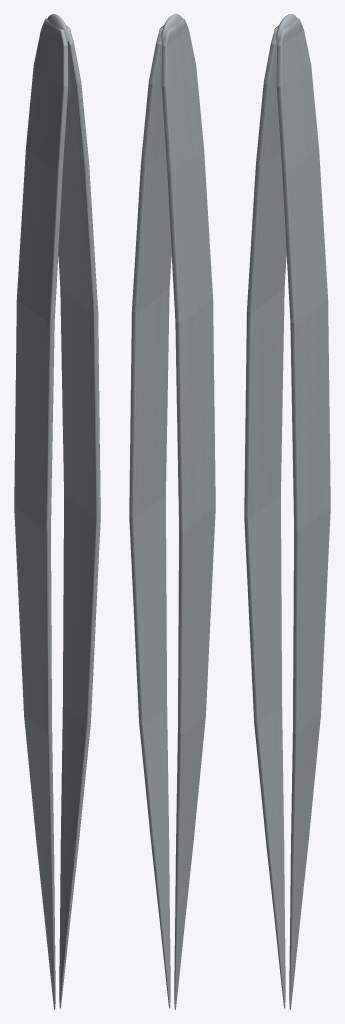
The model's file is pinzette.glb.
The picture shows the model from 3 angles, left to right: view 1: azimuth 30°, elevation 25°; view 2: azimuth 150°, elevation 25°; view 3: azimuth 330°, elevation 25°; orthographic projection.
Parts seen in each view (by area): view 1: Braccio_Sinistro, Braccio_Destro, Giunzione; view 2: Braccio_Sinistro, Braccio_Destro, Giunzione; view 3: Braccio_Destro, Braccio_Sinistro, Giunzione.
Part boxes in pixels (bbox=[...]): Braccio_Sinistro: bbox=[14, 18, 68, 1009]; Braccio_Destro: bbox=[58, 25, 100, 1008]; Giunzione: bbox=[47, 14, 68, 41]; Braccio_Sinistro: bbox=[161, 18, 215, 1009]; Braccio_Destro: bbox=[129, 25, 171, 1008]; Giunzione: bbox=[161, 14, 182, 41]; Braccio_Destro: bbox=[276, 18, 330, 1009]; Braccio_Sinistro: bbox=[244, 25, 286, 1008]; Giunzione: bbox=[276, 14, 297, 41].
Size of the model in its own units: 0.00694 by 0.12 by 0.0074.
1 material, 1 textured.
